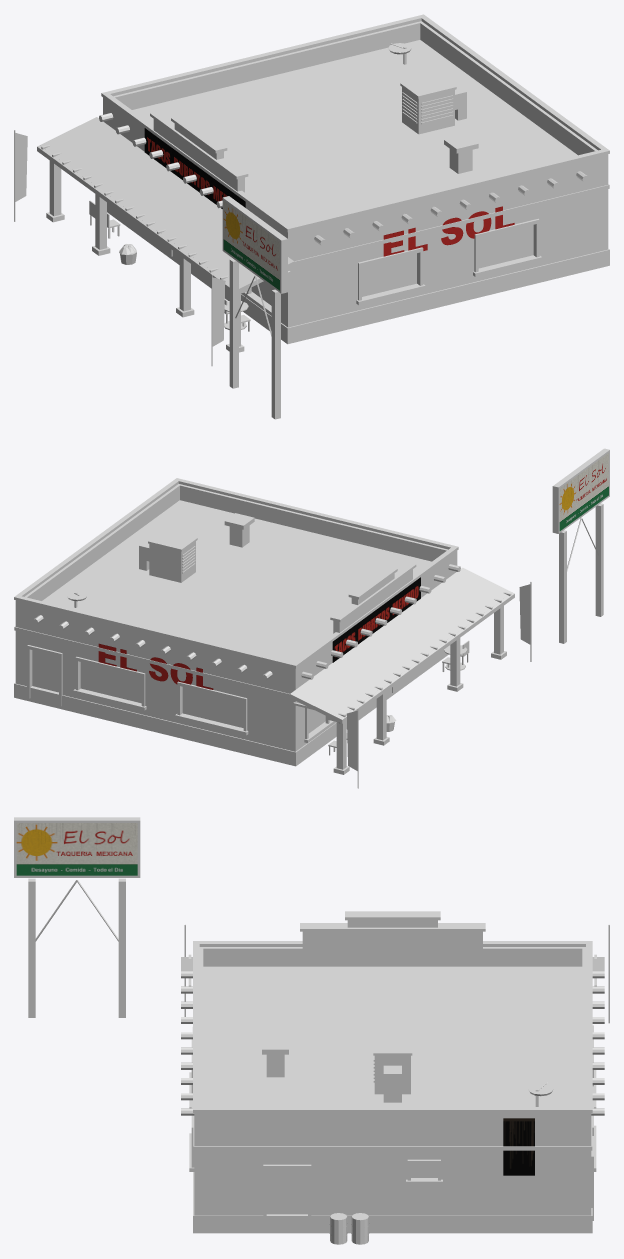
Rendered from WG01_ElSol.fbx.
3 renders of one model, top to bottom at view 1: azimuth 30°, elevation 25°; view 2: azimuth 150°, elevation 25°; view 3: azimuth 270°, elevation 25°, orthographic. The views are drawn at different scales.
Parts seen in each view (by area): view 1: WG01_ElSol_M__Concrete_8E8A84, WG01_ElSol_M__Plaster_E2B52C, WG01_ElSol_M__ClayRoofTiles_A8532E, WG01_ElSol_T__Concrete_B5634A, WG01_ElSol_T__Plaster_A8352C, WG01_ElSol_M__Glass_2B3438, WG01_ElSol_C__Sign_elsol_pole, WG01_ElSol_C__Metal_E2DED2, WG01_ElSol_T__Wood_2F6B3E, WG01_ElSol_M__Wood_D9742E, WG01_ElSol_C__Decal_elsol_wall_menu, WG01_ElSol_T__Wood_7A5232 (+10 smaller); view 2: WG01_ElSol_M__Concrete_8E8A84, WG01_ElSol_M__Plaster_E2B52C, WG01_ElSol_M__ClayRoofTiles_A8532E, WG01_ElSol_T__Concrete_B5634A, WG01_ElSol_T__Plaster_A8352C, WG01_ElSol_M__Glass_2B3438, WG01_ElSol_T__Wood_2F6B3E, WG01_ElSol_C__Sign_elsol_pole, WG01_ElSol_C__Metal_E2DED2, WG01_ElSol_M__Wood_D9742E, WG01_ElSol_C__Decal_elsol_wall_menu, WG01_ElSol_T__Wood_7A5232 (+10 smaller); view 3: WG01_ElSol_M__Concrete_8E8A84, WG01_ElSol_M__Plaster_E2B52C, WG01_ElSol_T__Concrete_B5634A, WG01_ElSol_T__Plaster_A8352C, WG01_ElSol_C__Sign_elsol_pole, WG01_ElSol_C__Metal_E2DED2, WG01_ElSol_T__Plaster_D9692A, WG01_ElSol_T__Wood_7A5232, WG01_ElSol_M__Metal_7D7A72, WG01_ElSol_C__Decal_decal_drip_0, WG01_ElSol_C__Metal_B8B2A2, WG01_ElSol_C__Metal_9EA2A3 (+4 smaller).
Part boxes in pixels (bbox=[...]): WG01_ElSol_M__Concrete_8E8A84: bbox=[132, 40, 577, 225]; WG01_ElSol_M__Plaster_E2B52C: bbox=[103, 21, 608, 327]; WG01_ElSol_M__ClayRoofTiles_A8532E: bbox=[37, 117, 294, 293]; WG01_ElSol_T__Concrete_B5634A: bbox=[101, 14, 609, 232]; WG01_ElSol_T__Plaster_A8352C: bbox=[107, 202, 609, 344]; WG01_ElSol_M__Glass_2B3438: bbox=[251, 225, 533, 305]; WG01_ElSol_C__Sign_elsol_pole: bbox=[223, 201, 279, 290]; WG01_ElSol_C__Metal_E2DED2: bbox=[229, 259, 280, 419]; WG01_ElSol_T__Wood_2F6B3E: bbox=[170, 218, 542, 315]; WG01_ElSol_M__Wood_D9742E: bbox=[49, 160, 240, 346]; WG01_ElSol_C__Decal_elsol_wall_menu: bbox=[144, 128, 245, 208]; WG01_ElSol_T__Wood_7A5232: bbox=[99, 113, 588, 245]; WG01_ElSol_M__Concrete_8E8A84: bbox=[42, 500, 431, 662]; WG01_ElSol_M__Plaster_E2B52C: bbox=[15, 484, 457, 751]; WG01_ElSol_M__ClayRoofTiles_A8532E: bbox=[290, 567, 514, 723]; WG01_ElSol_T__Concrete_B5634A: bbox=[14, 478, 458, 668]; WG01_ElSol_T__Plaster_A8352C: bbox=[14, 650, 448, 766]; WG01_ElSol_M__Glass_2B3438: bbox=[80, 662, 325, 733]; WG01_ElSol_T__Wood_2F6B3E: bbox=[27, 645, 394, 743]; WG01_ElSol_C__Sign_elsol_pole: bbox=[559, 453, 608, 530]; WG01_ElSol_C__Metal_E2DED2: bbox=[559, 503, 603, 643]; WG01_ElSol_M__Wood_D9742E: bbox=[336, 606, 503, 769]; WG01_ElSol_C__Decal_elsol_wall_menu: bbox=[332, 577, 420, 662]; WG01_ElSol_T__Wood_7A5232: bbox=[33, 564, 460, 680]; WG01_ElSol_M__Concrete_8E8A84: bbox=[203, 966, 582, 1106]; WG01_ElSol_M__Plaster_E2B52C: bbox=[194, 920, 591, 1215]; WG01_ElSol_T__Concrete_B5634A: bbox=[193, 911, 592, 1112]; WG01_ElSol_T__Plaster_A8352C: bbox=[193, 1172, 592, 1233]; WG01_ElSol_C__Sign_elsol_pole: bbox=[16, 823, 137, 875]; WG01_ElSol_C__Metal_E2DED2: bbox=[28, 878, 125, 1017]; WG01_ElSol_T__Plaster_D9692A: bbox=[193, 1115, 592, 1150]; WG01_ElSol_T__Wood_7A5232: bbox=[181, 971, 604, 1115]; WG01_ElSol_M__Metal_7D7A72: bbox=[266, 1169, 307, 1214]; WG01_ElSol_C__Decal_decal_drip_0: bbox=[503, 1118, 534, 1175]; WG01_ElSol_C__Metal_B8B2A2: bbox=[14, 817, 140, 877]; WG01_ElSol_C__Metal_9EA2A3: bbox=[184, 924, 609, 1102].
Bounding box in the file's own units: 59.67 × 24.5 × 66.08.
41 materials, 4 textured.
